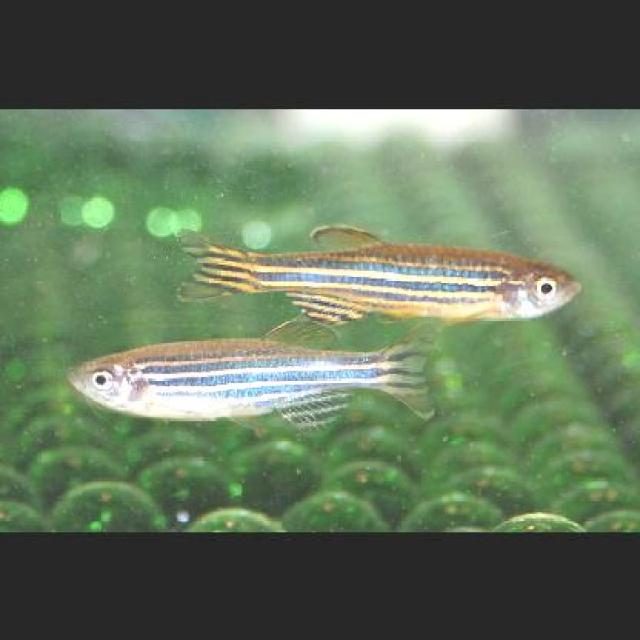ZebraFish: (69, 315, 436, 433), (176, 223, 581, 319)
